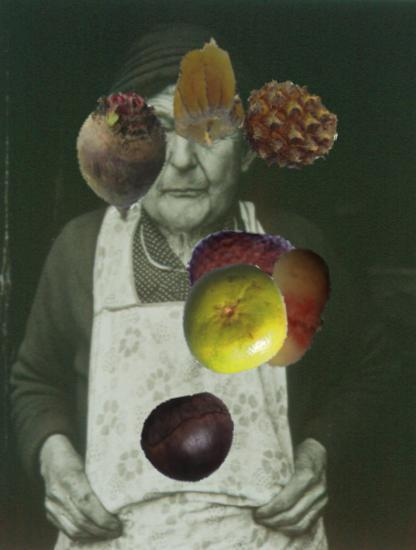Beetroot: (52, 81, 193, 222)
Chestnut: (140, 391, 236, 487)
Peach: (224, 244, 351, 371)
Physalis: (149, 41, 258, 150)
Pineapple: (240, 76, 339, 175)
Pomelo: (178, 263, 292, 377)
Salak: (186, 222, 302, 338)
